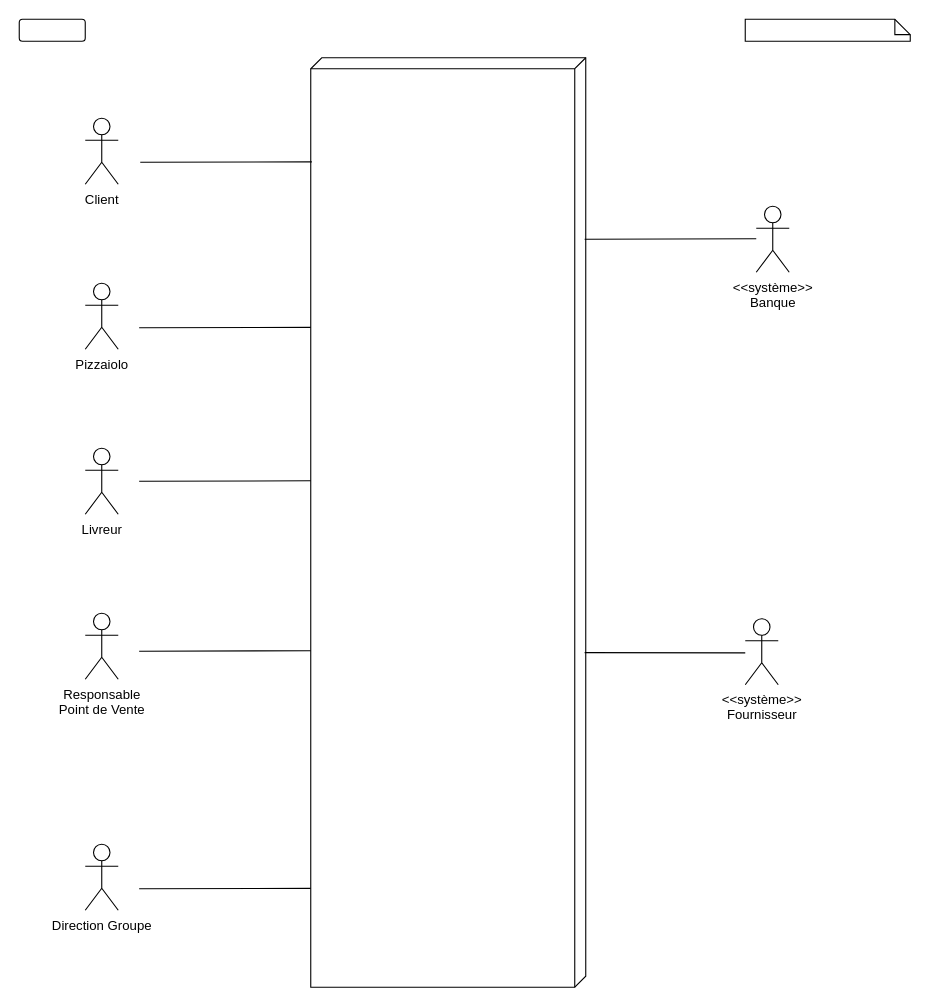
Some shapes in this 930 by 1007 pixel diagram are drawn without their labels. The box of each missing label's shape, as (x1, y1, x2, y2) in pixels:
Diagramme de Contexte: (744, 18, 910, 41)
OC'Pizza: (18, 18, 85, 41)
Système: (310, 57, 586, 987)
